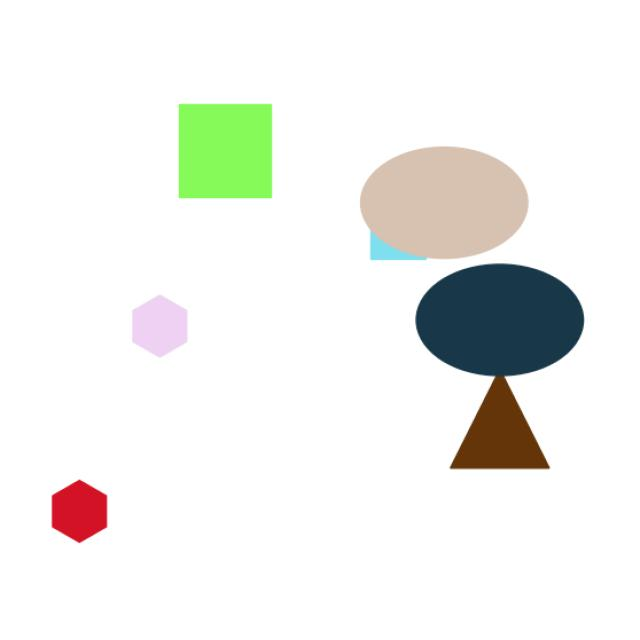Hexagon: (34, 470, 142, 566), (120, 284, 200, 366)
Oval: (403, 252, 608, 389), (343, 137, 543, 255)
Triangle: (439, 357, 572, 492)
square: (159, 86, 285, 216)
